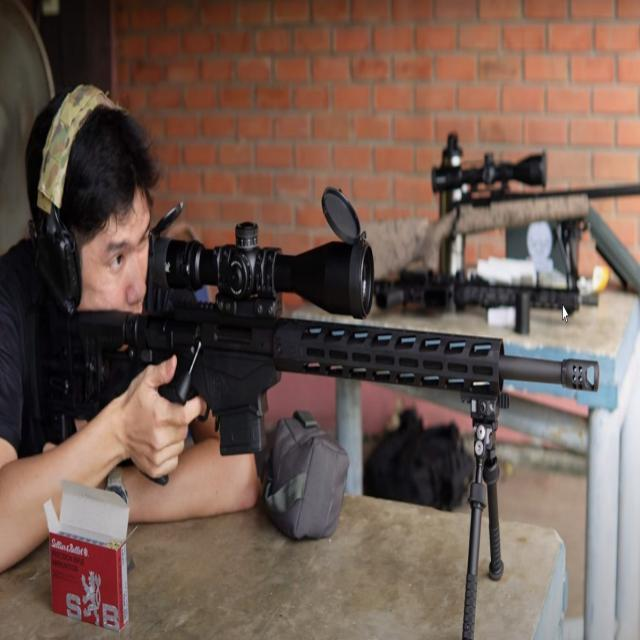rifle: (30, 181, 608, 634)
